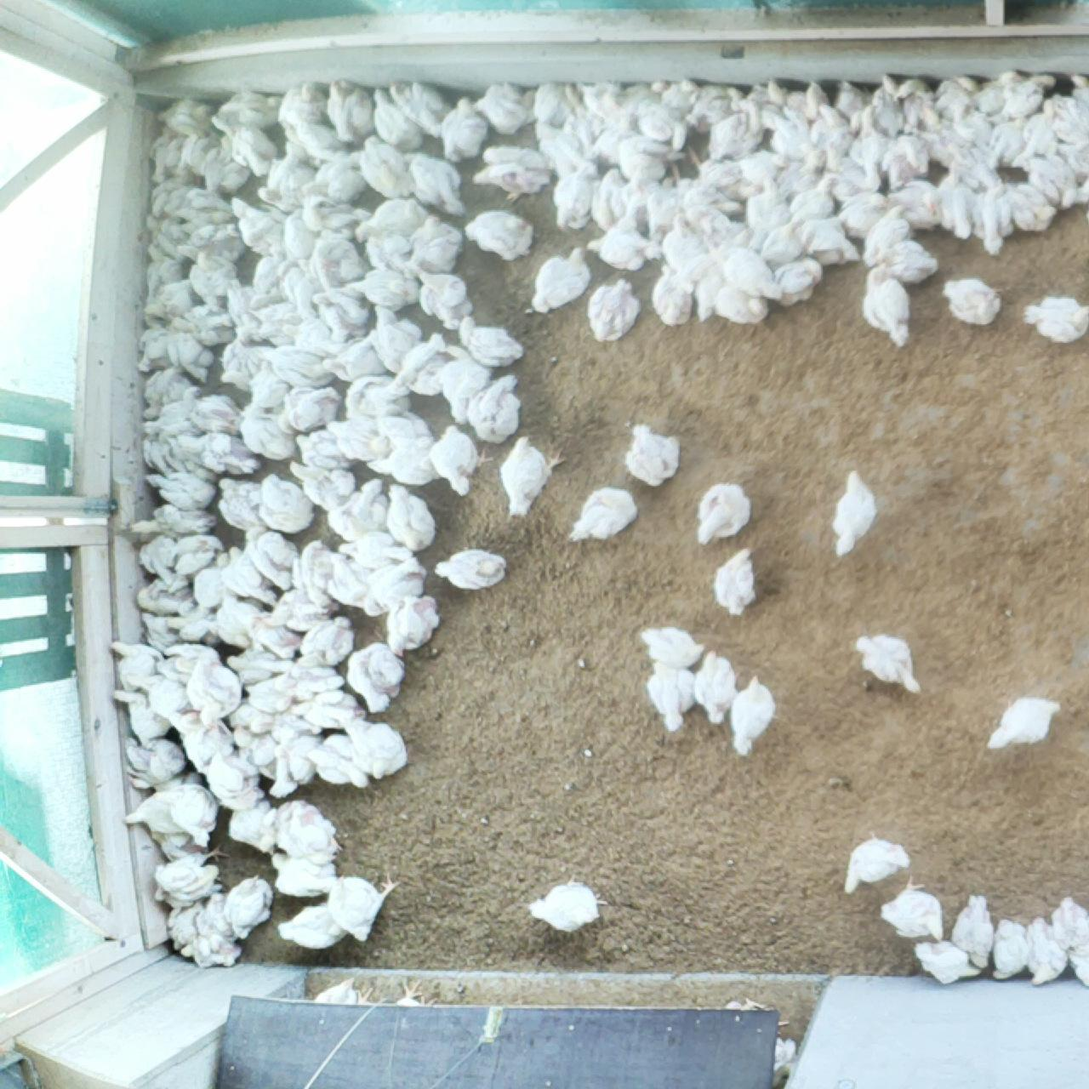chicken: (496, 432, 566, 519), (329, 866, 405, 942), (693, 227, 752, 323), (527, 872, 612, 937), (877, 870, 947, 947), (826, 466, 882, 562), (857, 263, 918, 351), (837, 824, 914, 893), (264, 799, 345, 863), (338, 712, 412, 782), (426, 425, 496, 499), (852, 630, 928, 697), (725, 672, 782, 758), (151, 780, 222, 848), (326, 475, 393, 545), (207, 114, 279, 179), (720, 226, 784, 299), (621, 419, 684, 493), (151, 842, 230, 901), (984, 694, 1063, 753), (388, 331, 455, 400), (583, 211, 659, 271), (532, 243, 592, 317), (439, 343, 493, 424), (645, 658, 700, 736), (691, 480, 753, 549), (614, 116, 684, 177), (186, 651, 242, 726), (568, 486, 640, 544), (320, 328, 395, 383), (368, 301, 425, 373), (583, 277, 642, 346), (940, 273, 1014, 328), (466, 372, 524, 442), (688, 645, 738, 726), (403, 149, 464, 215), (462, 207, 535, 262), (221, 871, 278, 941), (709, 544, 760, 622), (641, 174, 686, 262), (390, 79, 457, 138), (255, 471, 318, 533), (470, 79, 537, 137), (384, 590, 442, 657), (274, 899, 348, 951), (366, 558, 428, 620), (367, 84, 425, 150), (127, 669, 194, 726), (367, 435, 443, 485), (1020, 290, 1089, 345), (465, 161, 553, 204), (301, 152, 364, 212), (937, 155, 979, 244), (990, 71, 1059, 125), (205, 746, 265, 808), (344, 265, 423, 312), (385, 482, 438, 552), (456, 316, 523, 371), (354, 196, 423, 249), (177, 433, 262, 476), (415, 265, 473, 328), (269, 850, 342, 900), (534, 123, 599, 179), (357, 133, 413, 198), (973, 178, 1019, 257), (709, 98, 764, 164), (1021, 915, 1070, 989), (290, 686, 367, 733), (436, 94, 488, 163), (345, 635, 390, 714), (310, 225, 369, 285), (432, 547, 512, 591), (952, 892, 996, 972), (306, 733, 366, 791), (256, 146, 310, 210), (326, 76, 376, 145), (914, 937, 983, 987), (275, 382, 341, 434), (1011, 97, 1058, 170), (650, 261, 699, 331), (912, 101, 969, 161), (219, 542, 275, 603), (239, 399, 295, 460), (244, 525, 298, 588), (314, 283, 373, 340), (119, 735, 189, 783), (325, 415, 395, 463), (205, 594, 267, 647), (634, 621, 707, 666), (553, 161, 599, 232), (411, 214, 462, 278), (345, 371, 413, 419), (559, 81, 605, 151), (211, 86, 281, 132), (141, 382, 200, 436), (166, 318, 215, 383), (112, 688, 172, 741), (288, 458, 357, 504), (187, 248, 239, 309), (862, 202, 912, 265), (277, 82, 327, 145), (227, 193, 282, 250), (356, 207, 404, 272), (850, 104, 888, 185), (879, 133, 931, 192), (264, 342, 337, 384), (796, 217, 861, 264), (276, 721, 322, 786), (216, 475, 267, 533), (157, 636, 224, 680), (171, 714, 231, 763), (259, 588, 329, 630), (245, 242, 290, 307), (224, 798, 278, 852), (984, 112, 1031, 174), (223, 646, 297, 685), (703, 156, 763, 204), (766, 78, 831, 122), (989, 918, 1032, 984), (193, 548, 231, 622), (275, 207, 312, 283), (141, 369, 193, 423), (1006, 180, 1062, 230), (201, 134, 250, 191), (325, 554, 372, 613), (300, 192, 371, 231), (677, 74, 730, 126), (838, 191, 893, 241), (271, 662, 345, 699), (291, 537, 330, 607), (882, 239, 941, 285), (168, 533, 227, 579), (377, 402, 436, 448), (108, 636, 160, 688), (772, 254, 826, 304), (302, 614, 356, 664), (671, 176, 742, 214), (230, 724, 277, 781), (143, 469, 214, 506), (130, 308, 171, 372), (743, 170, 789, 227), (120, 791, 182, 833), (171, 300, 230, 344), (896, 77, 944, 131), (175, 223, 245, 260), (134, 573, 195, 615), (887, 178, 937, 229), (791, 174, 838, 228), (1049, 893, 1089, 956), (660, 211, 701, 272), (810, 101, 849, 165), (293, 429, 356, 468), (224, 274, 260, 342), (278, 253, 316, 317), (592, 111, 640, 161), (870, 74, 908, 137), (245, 359, 287, 416), (952, 101, 997, 154), (153, 96, 214, 135), (281, 317, 342, 356), (144, 122, 182, 184), (587, 166, 631, 219), (338, 529, 413, 560), (218, 342, 267, 389), (975, 68, 1025, 114), (787, 144, 829, 197), (137, 532, 179, 585), (760, 214, 808, 260), (171, 187, 232, 223), (933, 71, 979, 117), (1047, 145, 1080, 209), (239, 673, 296, 710), (198, 920, 244, 965), (147, 172, 194, 216), (144, 239, 179, 298), (364, 650, 406, 699), (165, 900, 203, 954), (1048, 90, 1089, 140), (150, 503, 218, 533), (478, 144, 555, 170), (165, 604, 219, 641), (769, 113, 814, 157), (252, 300, 299, 342), (146, 277, 194, 318), (734, 144, 787, 181), (138, 435, 191, 472), (197, 891, 237, 937), (597, 84, 655, 115), (531, 79, 570, 125), (191, 395, 245, 428), (834, 78, 871, 125), (295, 119, 341, 156), (832, 154, 870, 198), (696, 177, 742, 213), (623, 162, 658, 209), (180, 129, 215, 176), (1020, 161, 1059, 203), (701, 210, 740, 250), (229, 703, 278, 734), (728, 83, 771, 117), (143, 211, 189, 242), (138, 607, 177, 643), (650, 80, 691, 112), (151, 830, 202, 855), (1054, 140, 1089, 176), (123, 515, 162, 541), (179, 941, 216, 968), (1068, 947, 1089, 989), (1068, 71, 1089, 102)
